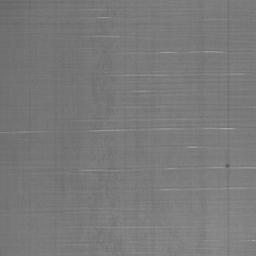Waist folding: (81, 15, 256, 193), (89, 225, 184, 230), (0, 129, 47, 135), (104, 251, 149, 256), (204, 17, 229, 22), (0, 21, 55, 23)
